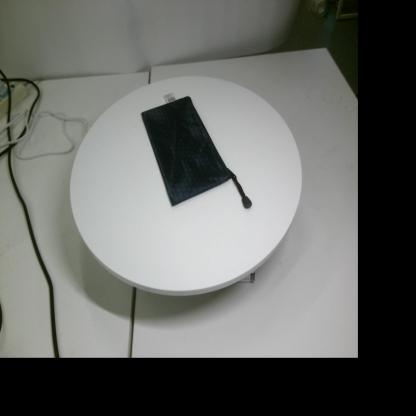Stationery: (141, 92, 252, 209)
